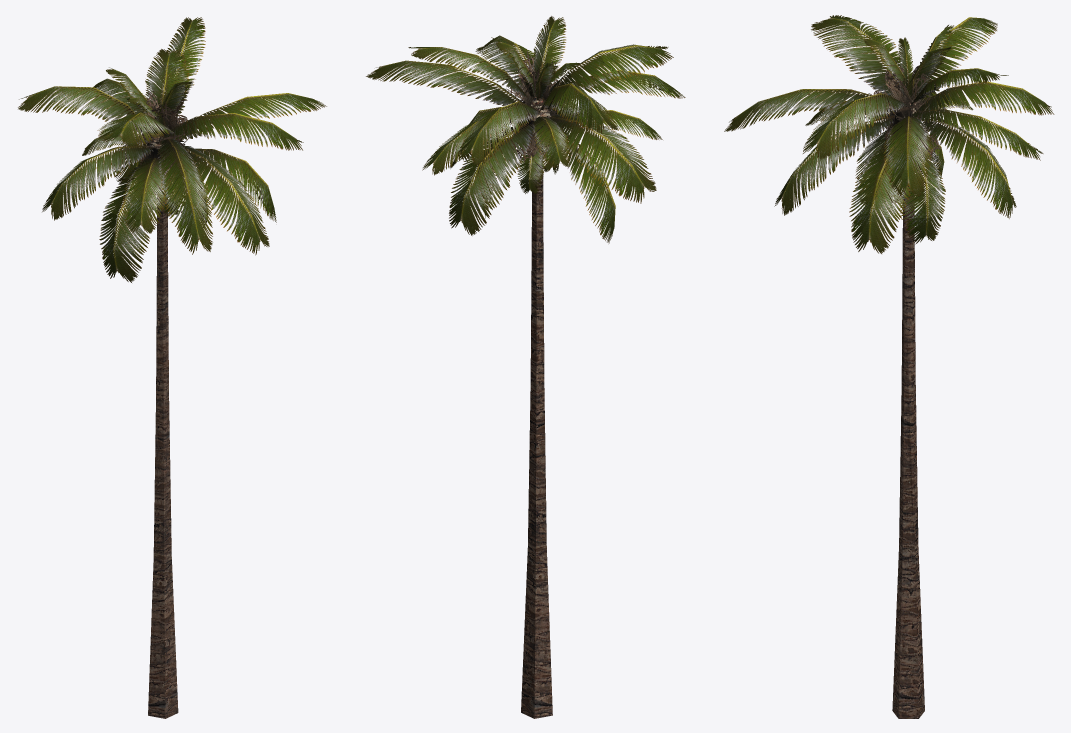
The model's file is tree_palm.obj.
3 renders of one model, left to right at view 1: azimuth 30°, elevation 25°; view 2: azimuth 150°, elevation 25°; view 3: azimuth 270°, elevation 25°, orthographic. The views are drawn at different scales.
Visible parts, largest first — view 1: Mesh.001_Mesh_palm_tree_palm; view 2: Mesh.001_Mesh_palm_tree_palm; view 3: Mesh.001_Mesh_palm_tree_palm.
Boxes of the visible parts, x1,y1,x2,y2 form: Mesh.001_Mesh_palm_tree_palm: [18, 17, 326, 718]; Mesh.001_Mesh_palm_tree_palm: [366, 16, 685, 718]; Mesh.001_Mesh_palm_tree_palm: [724, 15, 1054, 718].
Size of the model in its own units: 0.3084 by 0.6833 by 0.3071.
Materials: 1 (1 with a texture image).
